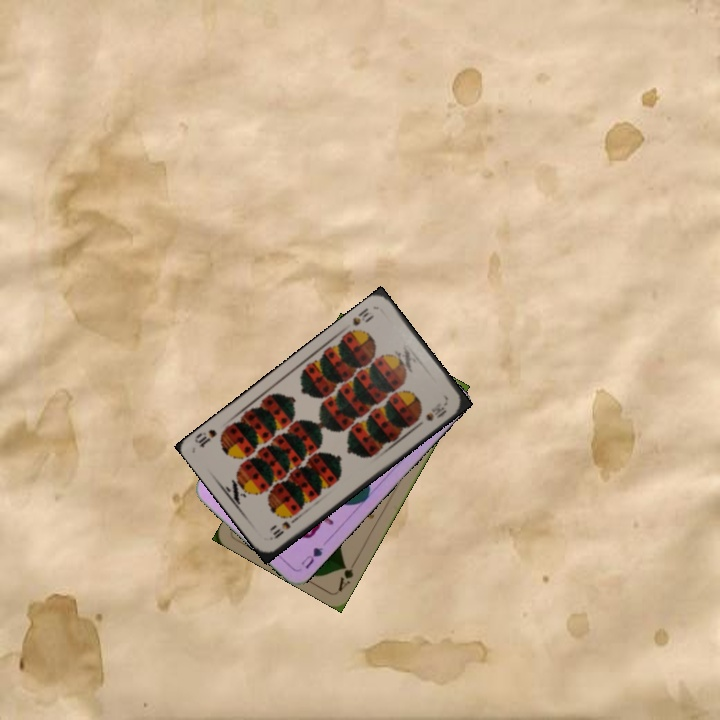GA: (334, 556, 360, 594)
GU: (297, 543, 326, 571)
S10: (266, 513, 301, 543), (348, 304, 377, 329)
